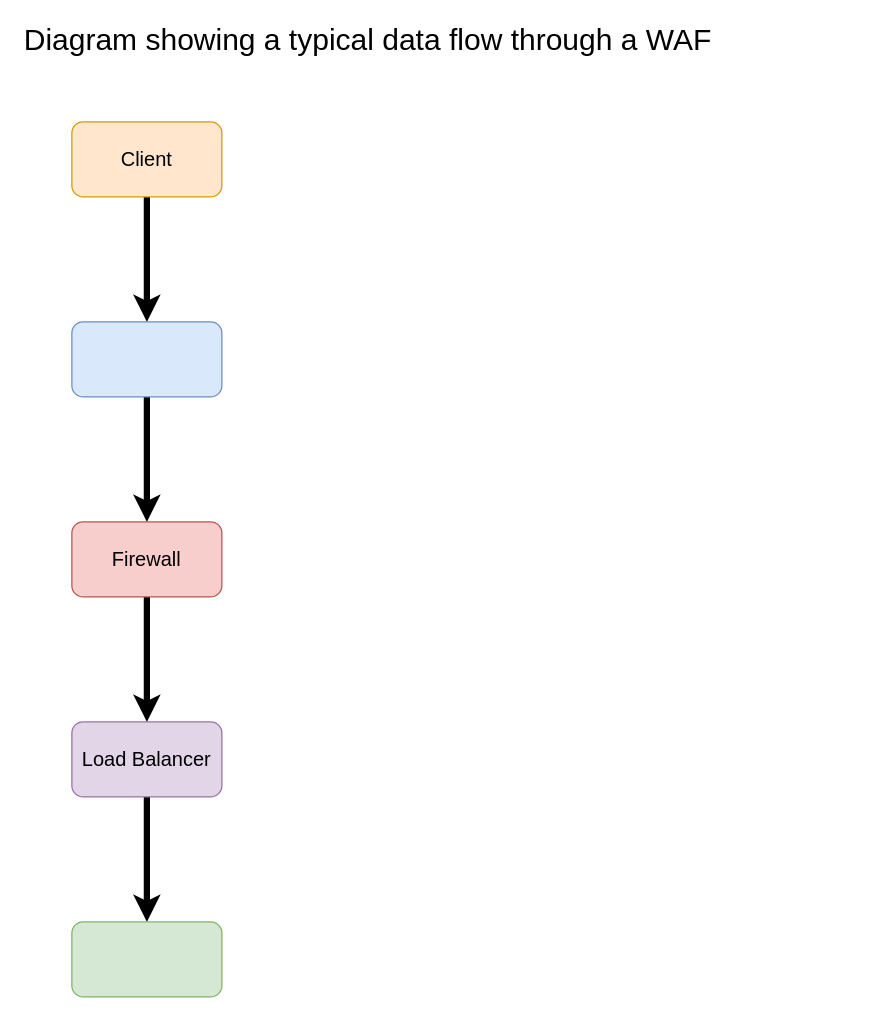
This 893x1019 diagram has some shape labels left out. The shapes that lost their labels are listed below. From the top down, each one's centre as x and y in pixels, then its label:
At point (146, 359): "WAF".
At point (146, 959): "API/Web Application".
